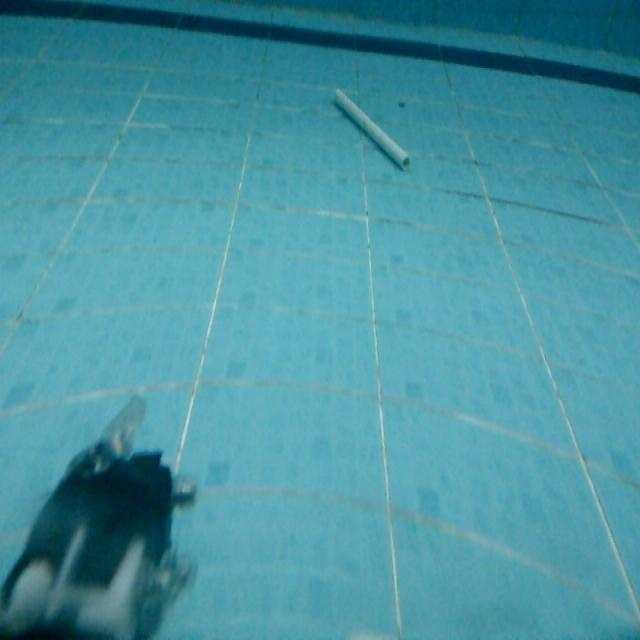Cube: (334, 88, 412, 176)
